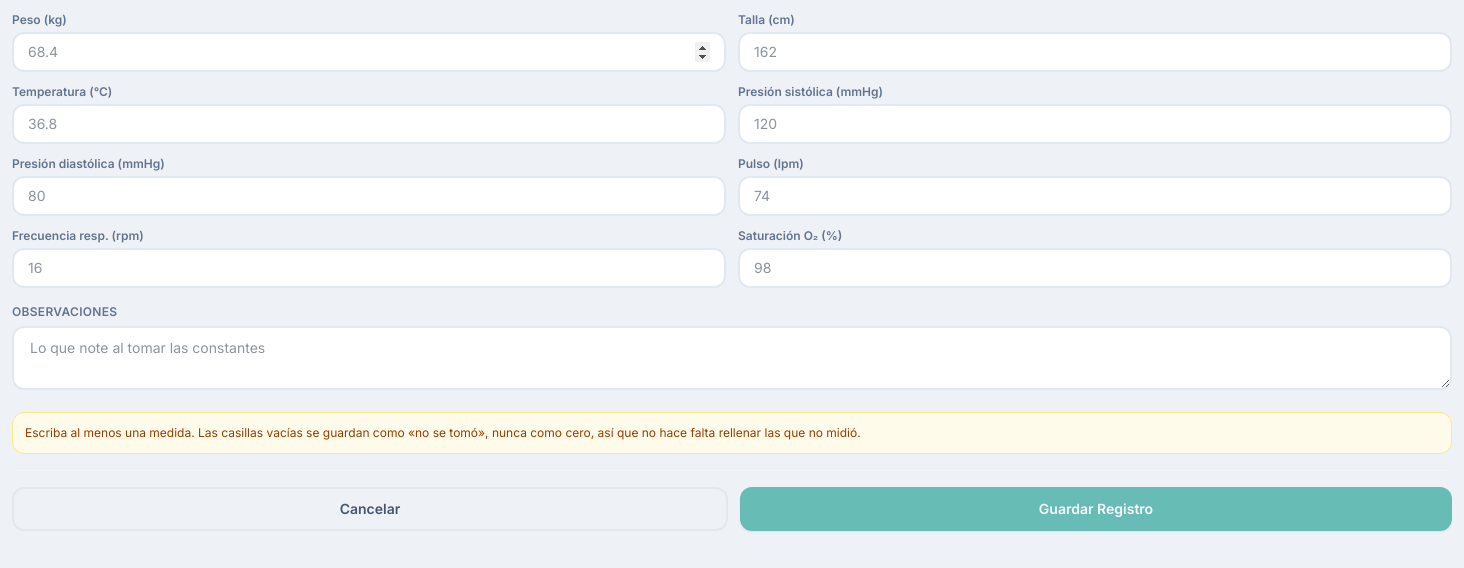
Test: VitalsForm · límites fisiológicos (HU-17 criterio 3) › una talla de 300 cm se rechaza
Type "300" into the number field labelled "Talla (cm)" at (1095, 52), box [738,32,1452,72]
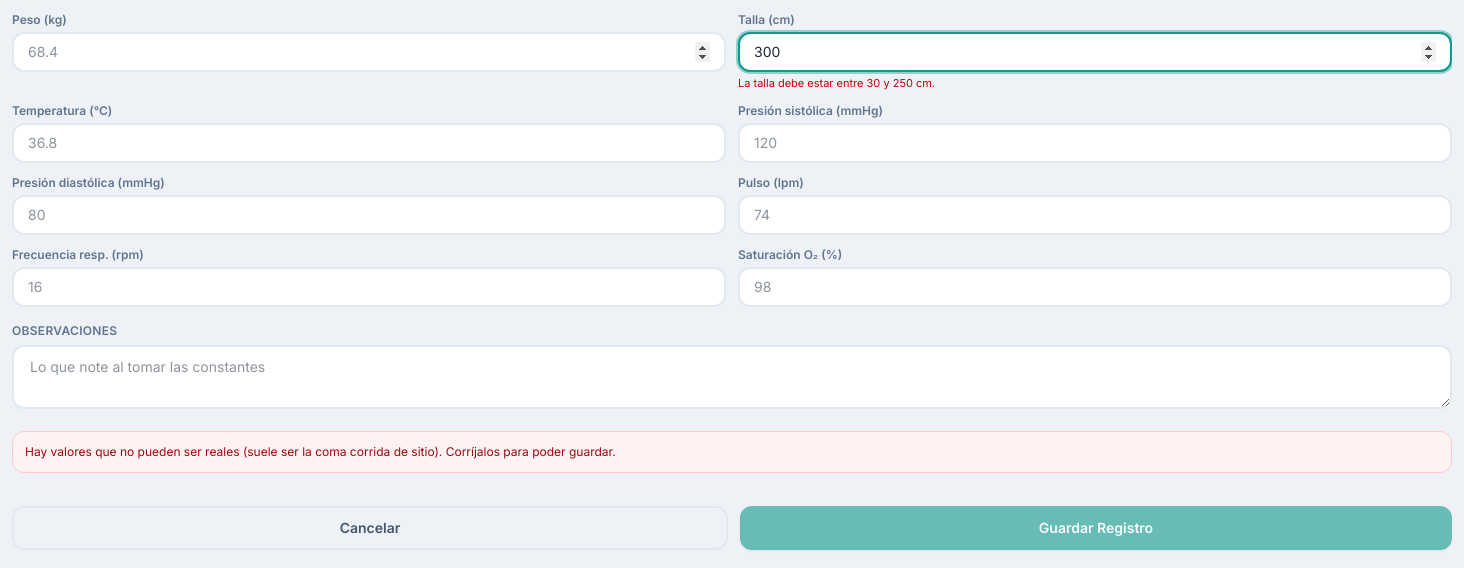
Expected: the button "Guardar Registro" is disabled, [740,506,1452,550]
Expected: the message reads "La talla debe estar entre 30 y 250 cm.", [738,76,935,90]
